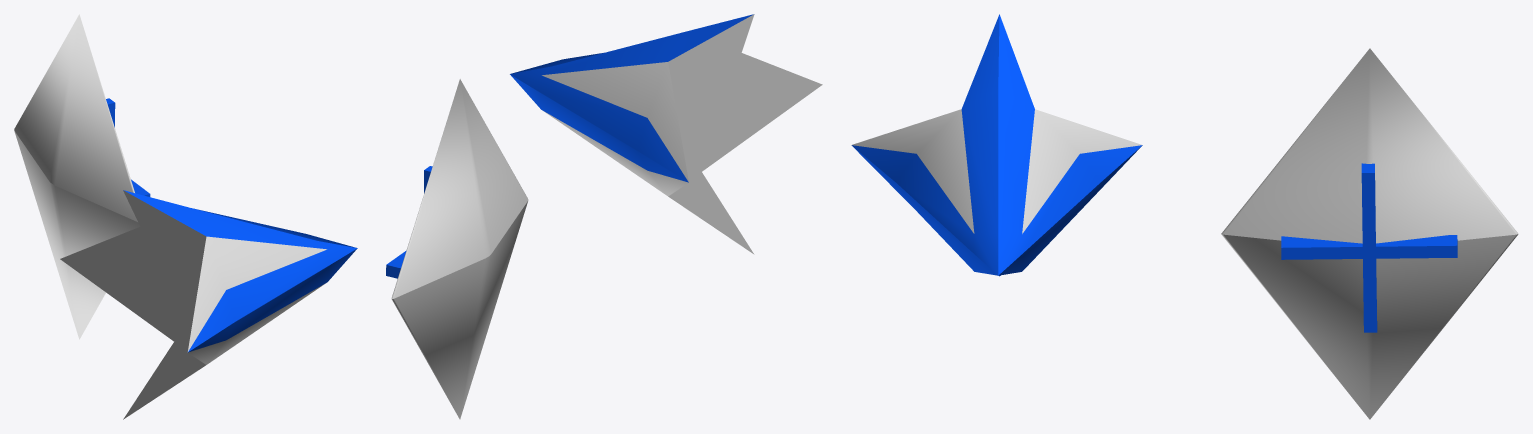
File: Neon Enemies.fbx
3 views of the same model, side by side, from view 1: azimuth 30°, elevation 25°; view 2: azimuth 150°, elevation 25°; view 3: azimuth 270°, elevation 25° (orthographic). The views are drawn at different scales.
Parts seen in each view (by area): view 1: Cone.003, Cube.008; view 2: Cone.003, Cube.008; view 3: Cube.008, Cone.003.
Boxes of the visible parts, x1,y1,x2,y2 form: Cone.003: (60,190,357,419); Cube.008: (14,14,150,339); Cone.003: (510,14,822,254); Cube.008: (386,79,528,419); Cube.008: (1221,48,1518,419); Cone.003: (851,14,1142,276).
Size of the model in its own units: 242 by 322 by 524.
